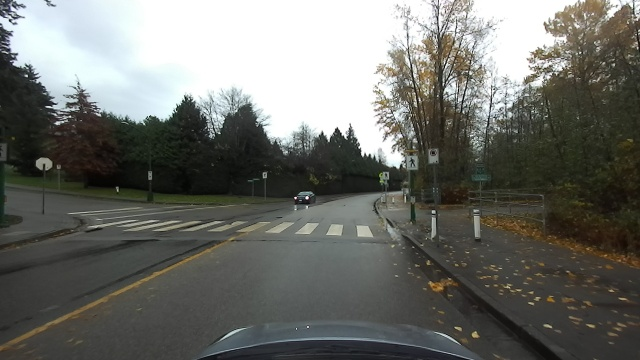car: (290, 189, 317, 207)
